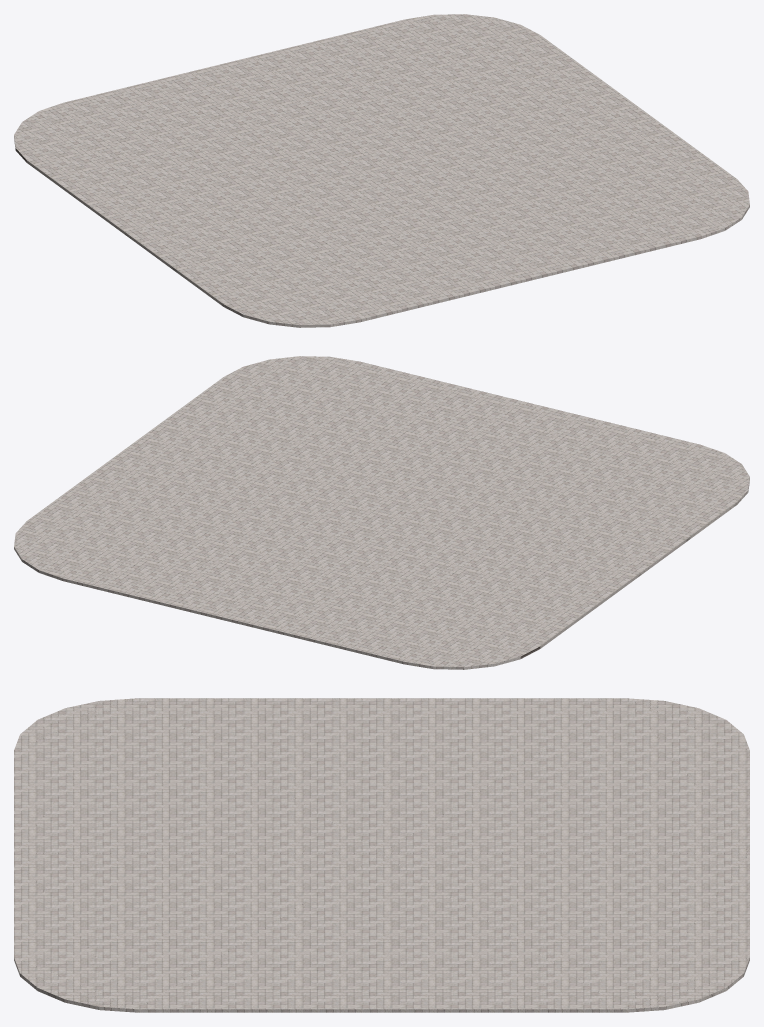
File: vereda.fbx
3 views of the same model, one above another, from view 1: azimuth 30°, elevation 25°; view 2: azimuth 150°, elevation 25°; view 3: azimuth 270°, elevation 25° (orthographic). The views are drawn at different scales.
Parts seen in each view (by area): view 1: Cube; view 2: Cube; view 3: Cube.
Boxes of the visible parts, x1,y1,x2,y2 form: Cube: [14, 14, 749, 327]; Cube: [14, 356, 749, 669]; Cube: [14, 698, 749, 1012].
Size of the model in its own units: 10000 by 50 by 10000.
